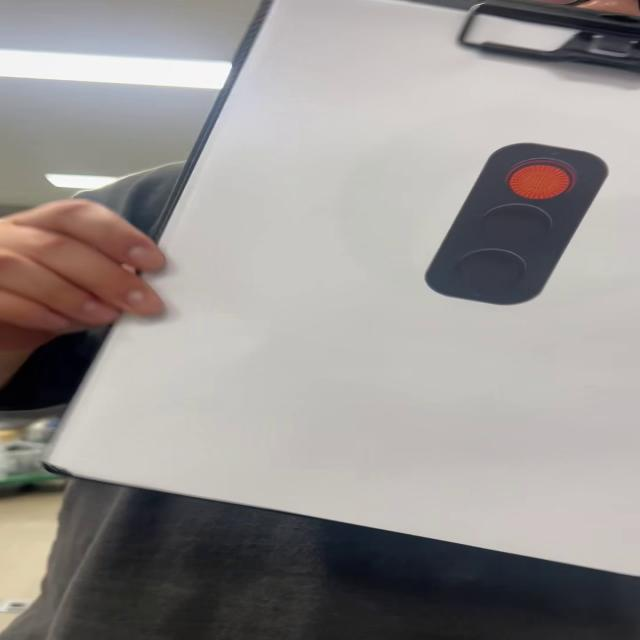red: (420, 144, 610, 308)
